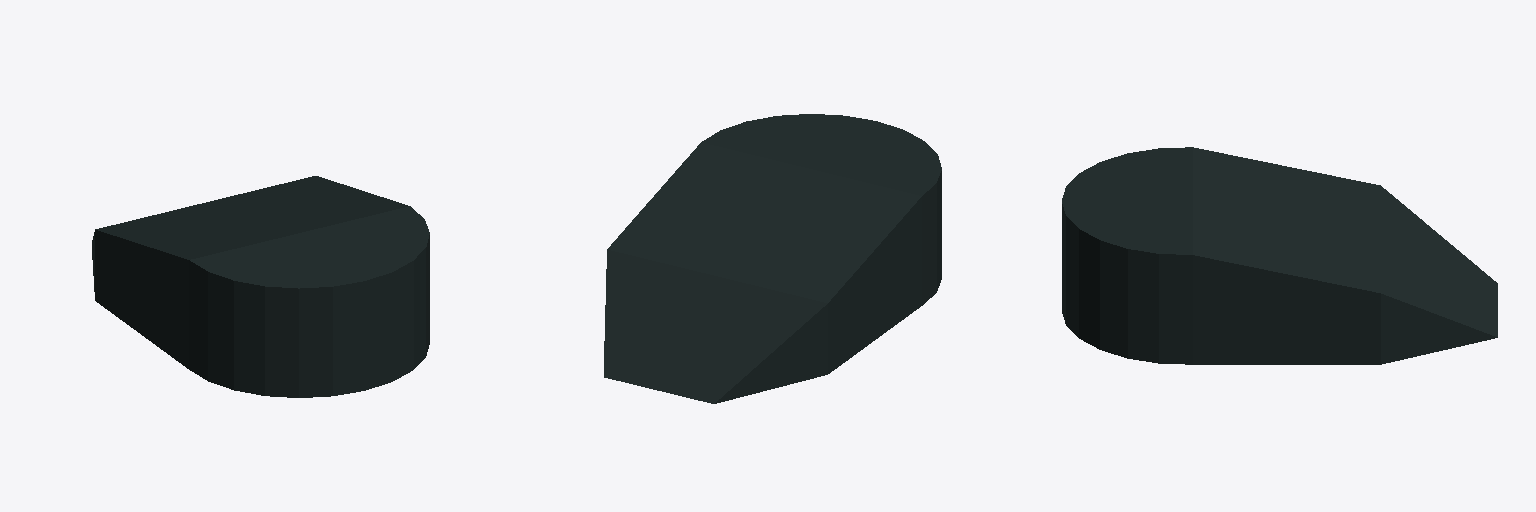
Rendered from computerMouse.obj.
The picture shows the model from 3 angles: view 1: azimuth 30°, elevation 25°; view 2: azimuth 150°, elevation 25°; view 3: azimuth 270°, elevation 25°; orthographic projection.
Visible parts, largest first — view 1: computerMouse; view 2: computerMouse; view 3: computerMouse.
Part boxes in pixels (x1,y1,x2,y2): computerMouse: (92,176,429,397); computerMouse: (604,114,941,403); computerMouse: (1062,147,1497,364).
Bounding box in the file's own units: 0.497 × 0.2357 × 0.851.